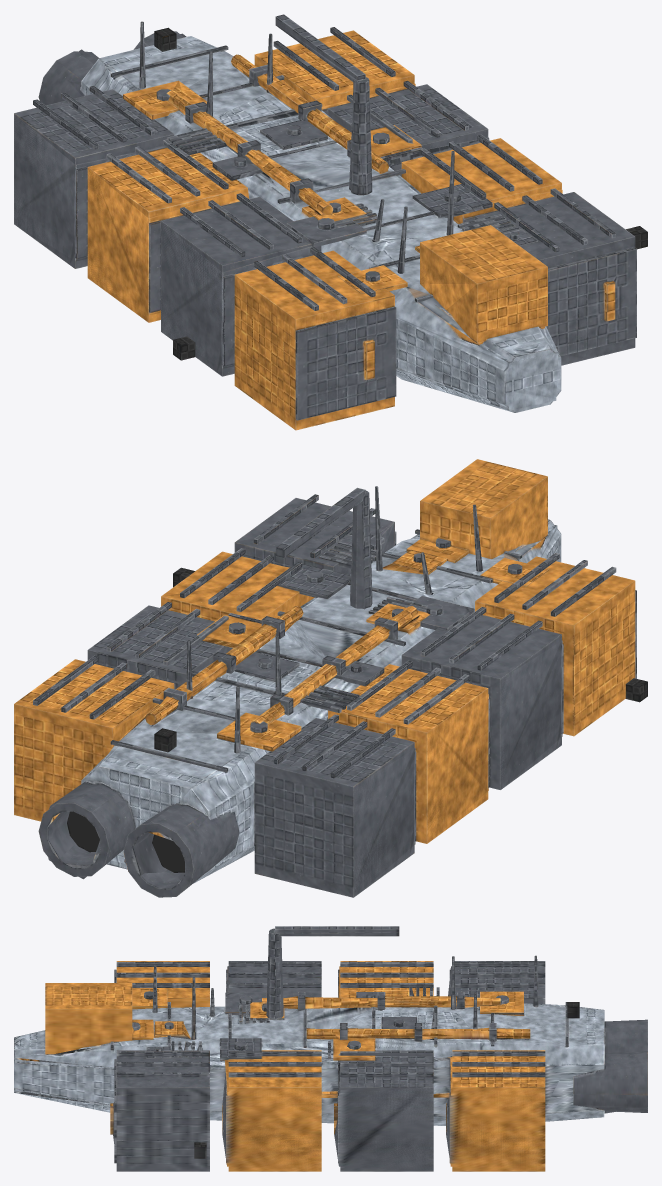
The model's file is sd_npc_cargo.glb.
3 renders of one model, top to bottom at view 1: azimuth 30°, elevation 25°; view 2: azimuth 150°, elevation 25°; view 3: azimuth 270°, elevation 25°, orthographic. The views are drawn at different scales.
Parts seen in each view (by area): view 1: LOD0_body, LOD1_body; view 2: LOD0_body, LOD1_body; view 3: LOD0_body, LOD1_body.
Boxes of the visible parts, <box> form: LOD0_body: <box>14,14,647,430</box>; LOD1_body: <box>14,26,635,429</box>; LOD0_body: <box>14,459,647,897</box>; LOD1_body: <box>14,459,635,897</box>; LOD0_body: <box>14,926,647,1171</box>; LOD1_body: <box>14,928,647,1171</box>.
Bounding box in the file's own units: 0.6471 × 0.3147 × 1.
Materials: 1 (1 with a texture image).
